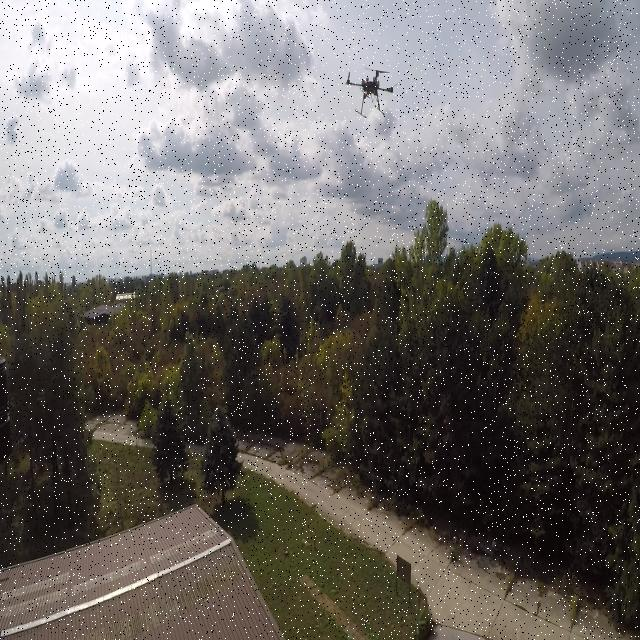UAV: (343, 60, 403, 120)
